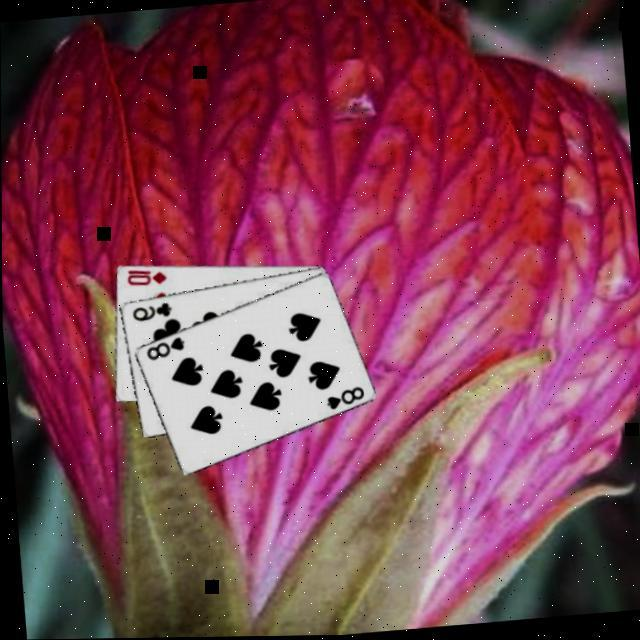10D: (122, 266, 168, 292)
8S: (140, 335, 186, 365), (320, 385, 366, 415)
9C: (127, 301, 172, 326)
